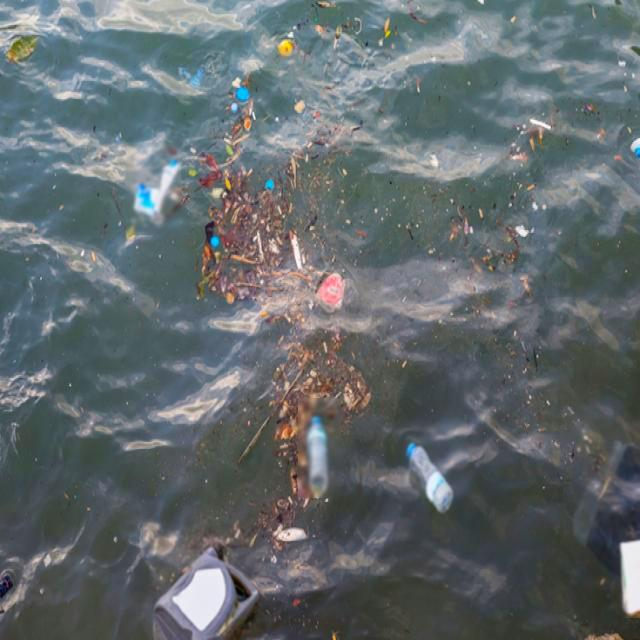Plastic: (142, 542, 262, 640), (402, 437, 458, 513), (302, 408, 334, 500)
Trash: (134, 149, 183, 222), (313, 264, 348, 312), (618, 540, 640, 613)
